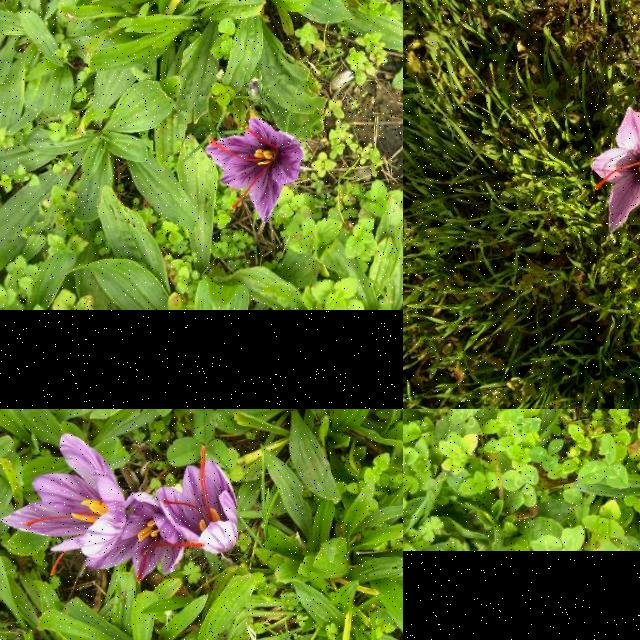flower: (206, 118, 304, 222), (590, 108, 640, 233)
overlap: (0, 434, 238, 582)
